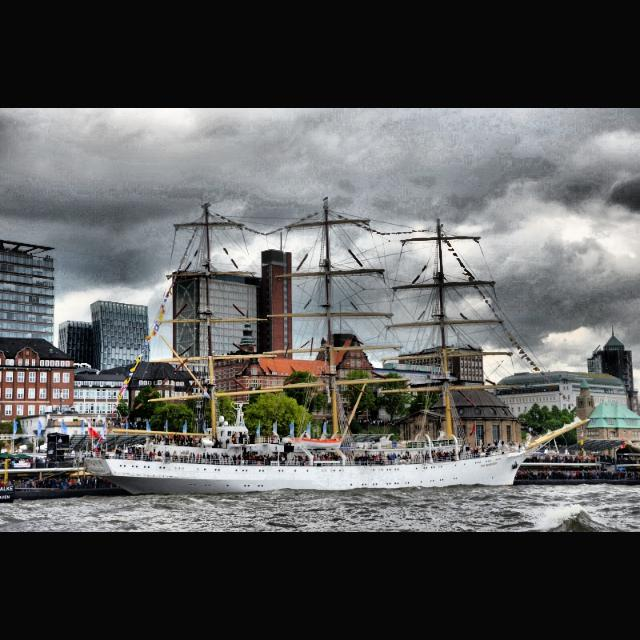sailing_vessel: (83, 196, 591, 497)
